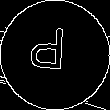P_S: (35, 29, 75, 81)
